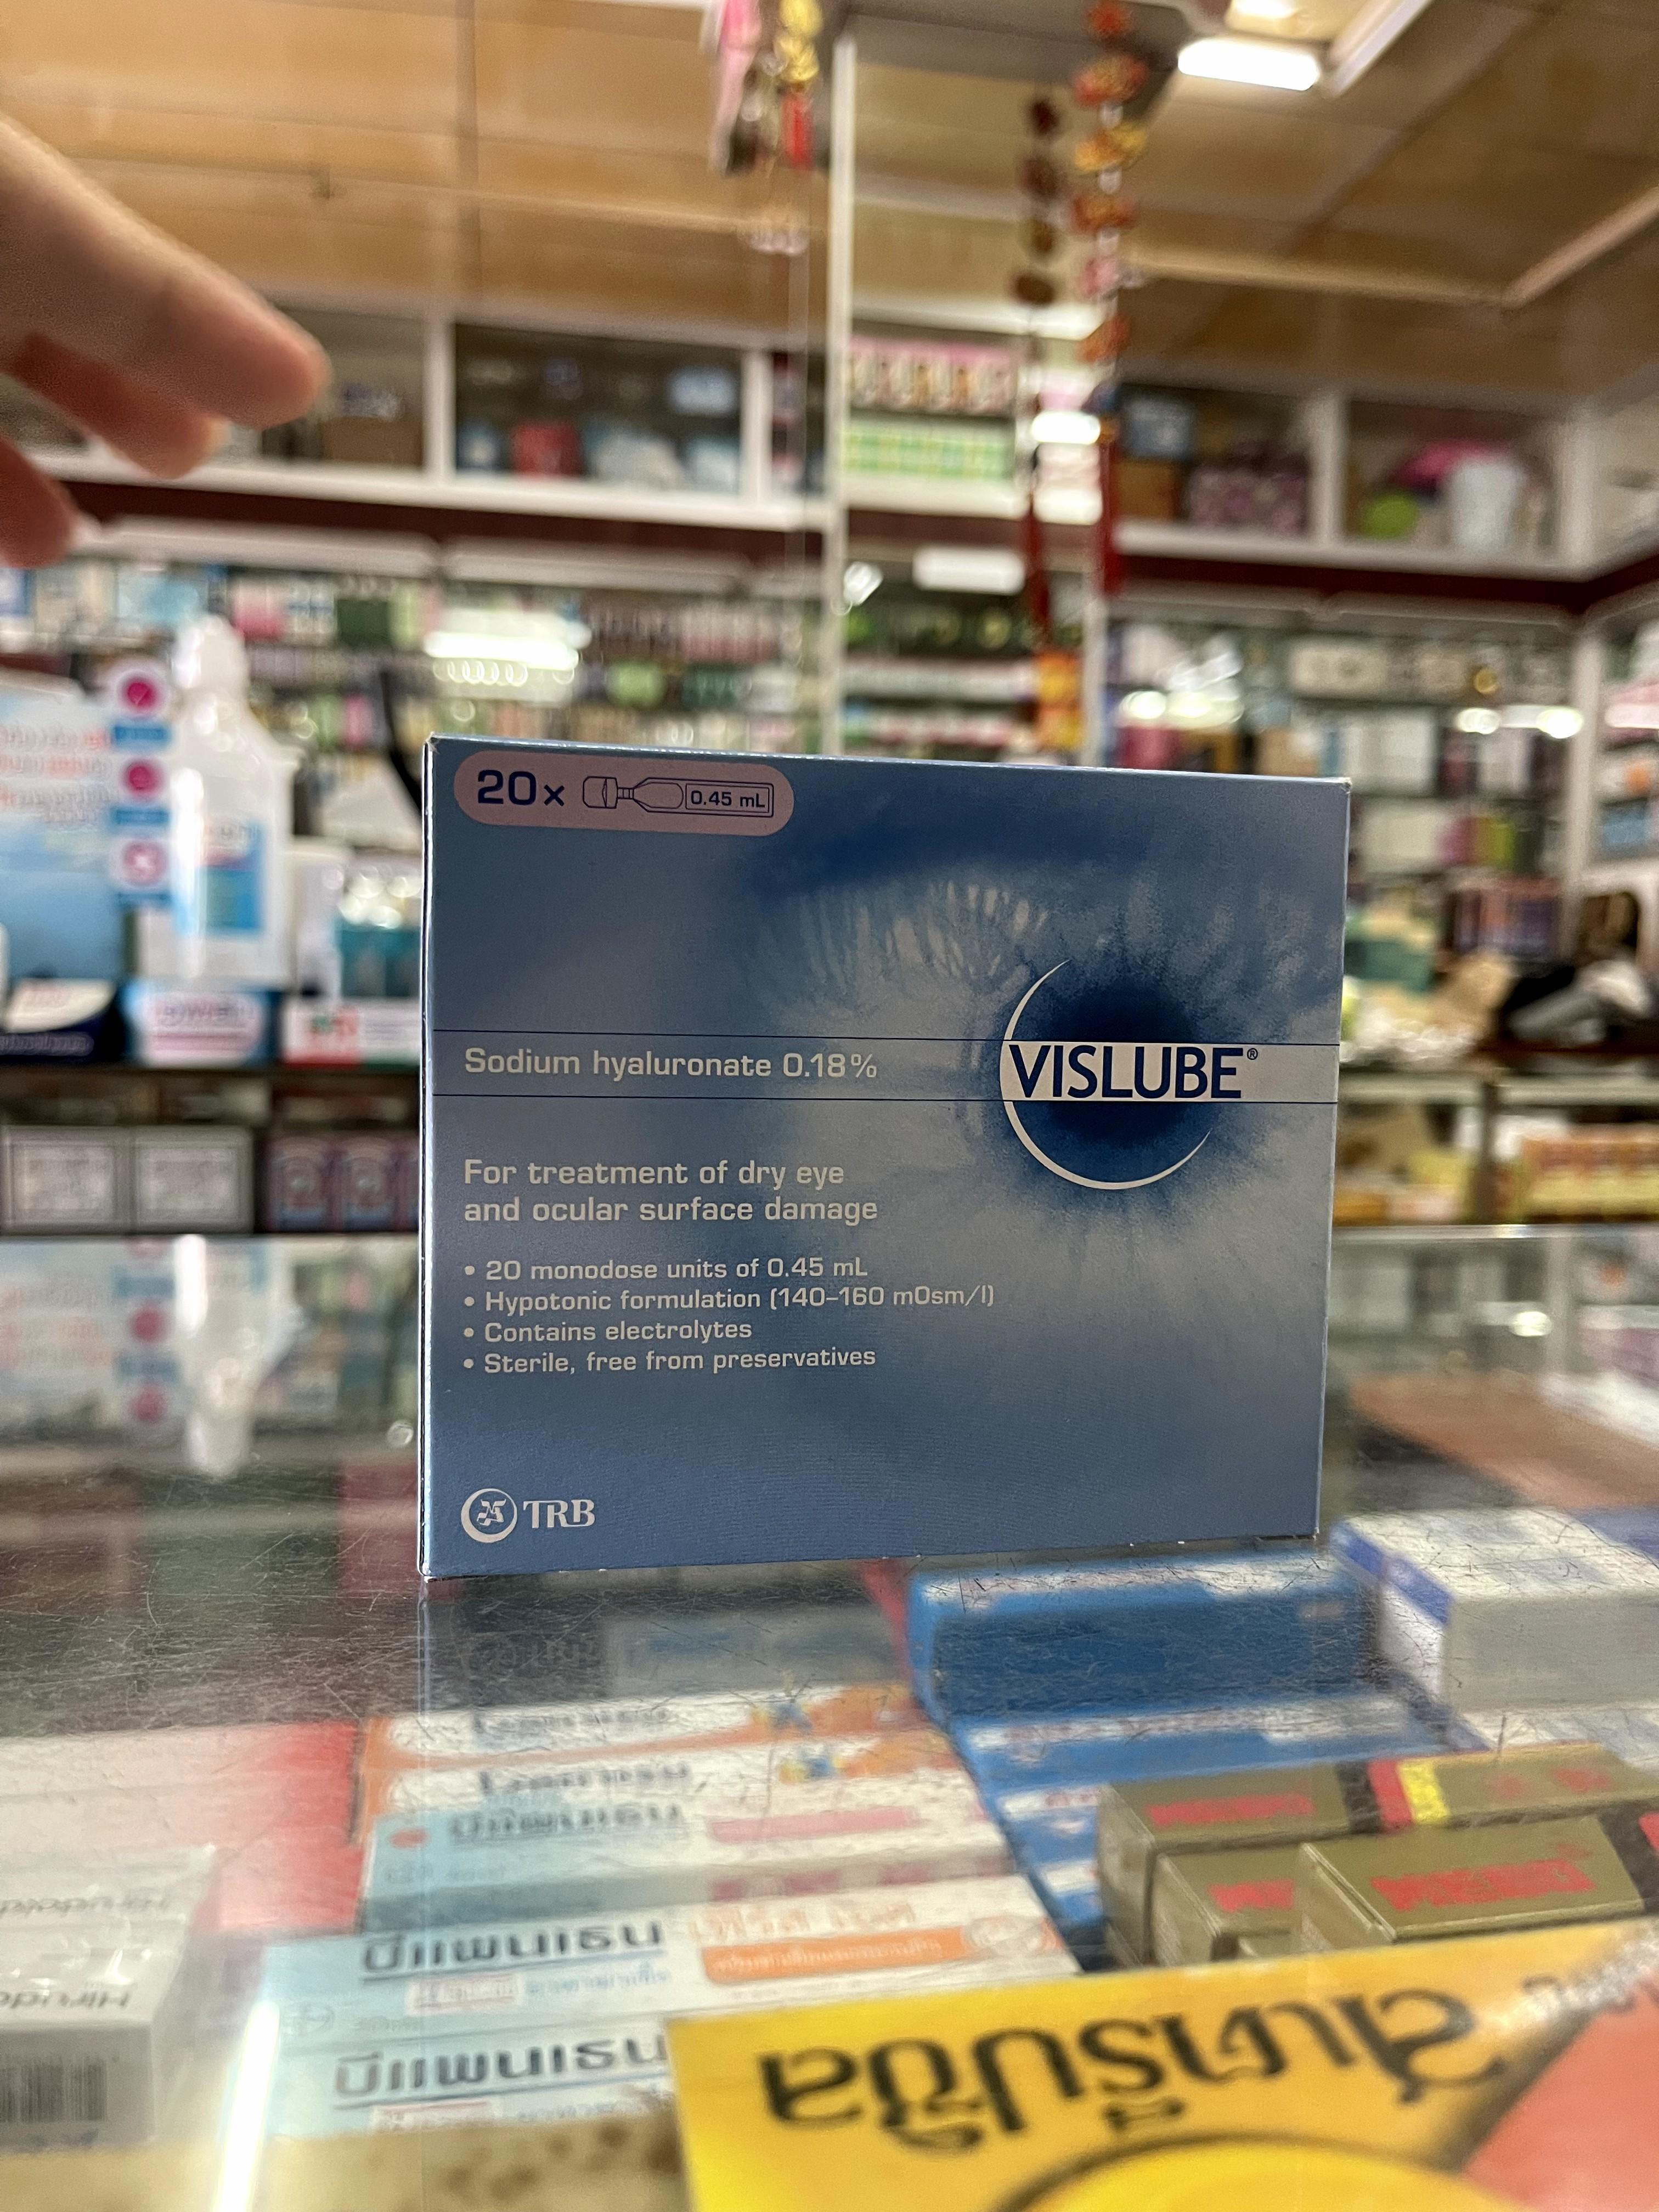Vislube20: (425, 740, 1347, 1571)
